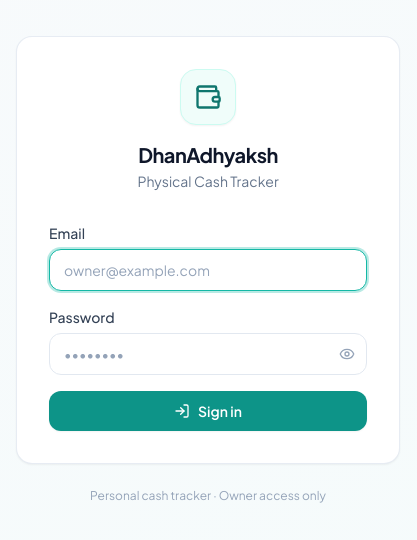
Test case: Auth: Client-side form validation › shows validation errors when form is submitted empty
This screenshot has width=417, height=540.
Click the button "Sign in": (208, 411) [49,391,367,431]
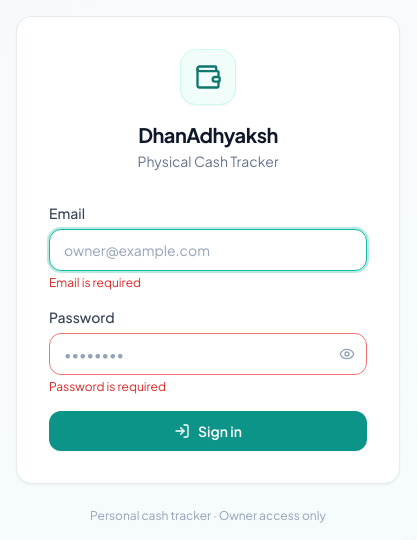
Expected: the text "Email is required" is shown, [49,275,141,290]
Expected: the text "Password is required" is shown, [49,379,166,394]
